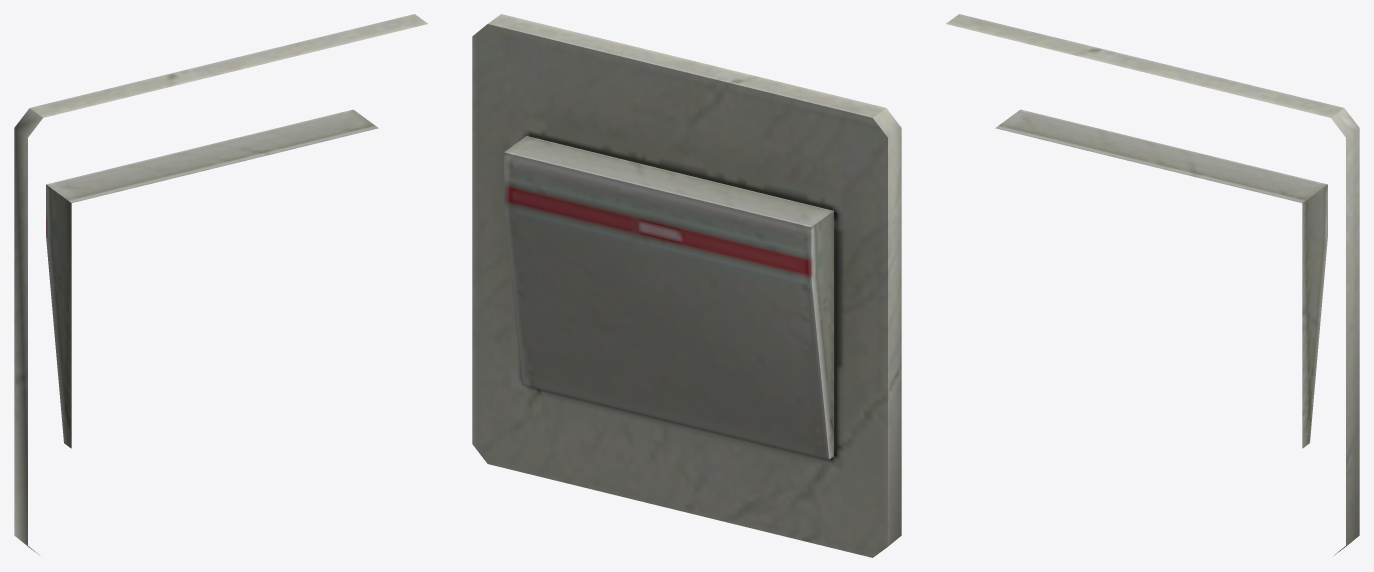
Rendered from Prop_Kg.glb.
3 views of the same model, side by side, from view 1: azimuth 30°, elevation 25°; view 2: azimuth 150°, elevation 25°; view 3: azimuth 330°, elevation 25° (orthographic).
Visible parts, largest first — view 1: xiutz_kg; view 2: xiutz_kg; view 3: xiutz_kg.
Boxes of the visible parts, left/top/right/bottom form: xiutz_kg: left=14, top=14, right=427, bottom=555; xiutz_kg: left=472, top=14, right=901, bottom=557; xiutz_kg: left=946, top=14, right=1359, bottom=555.
Bounding box in the file's own units: 0.2259 × 0.2284 × 0.034.
1 material, 1 textured.
